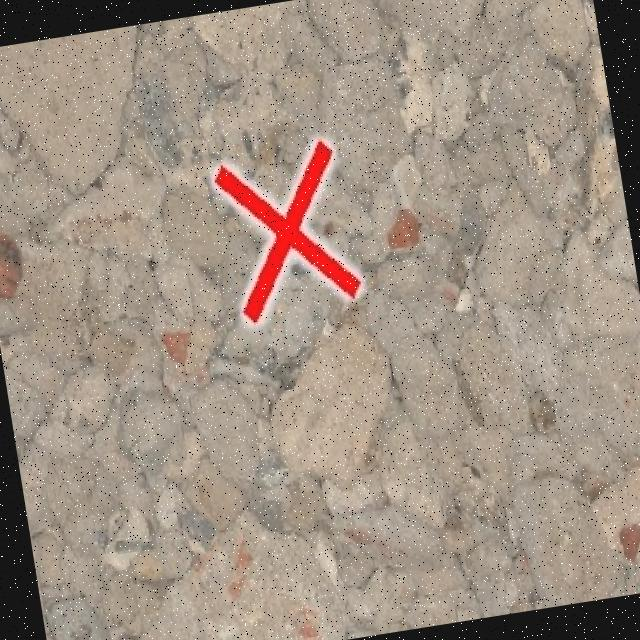x_marker: (210, 138, 363, 324)
